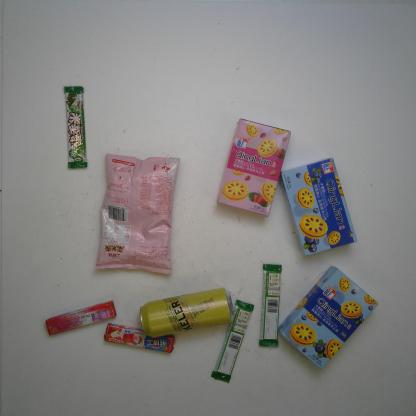Alcohol: (136, 285, 238, 340)
Candy: (43, 295, 118, 338), (102, 320, 180, 356)
Chocolate: (207, 296, 256, 384), (60, 84, 91, 171), (256, 262, 285, 352)
Dessert: (275, 263, 381, 373), (278, 154, 360, 258), (212, 114, 292, 219)
Puffed Food: (92, 148, 182, 278)
